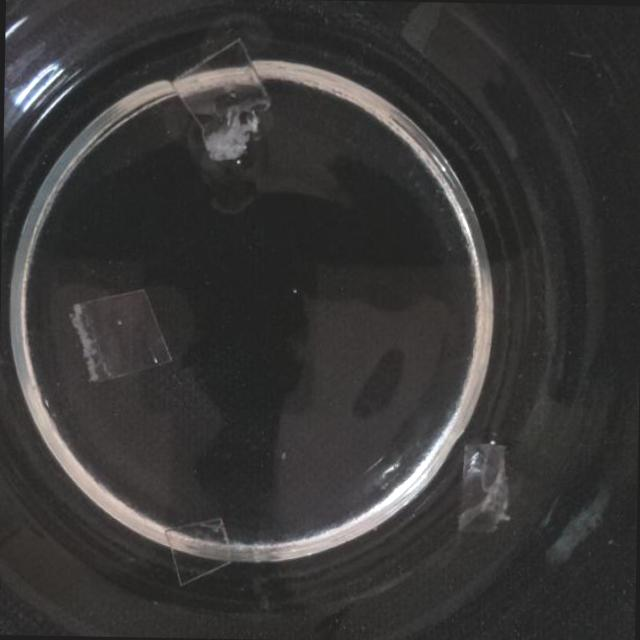fiber: (170, 41, 276, 168), (74, 284, 174, 380), (542, 477, 616, 564), (461, 437, 510, 536), (162, 520, 232, 586), (400, 5, 442, 54)
